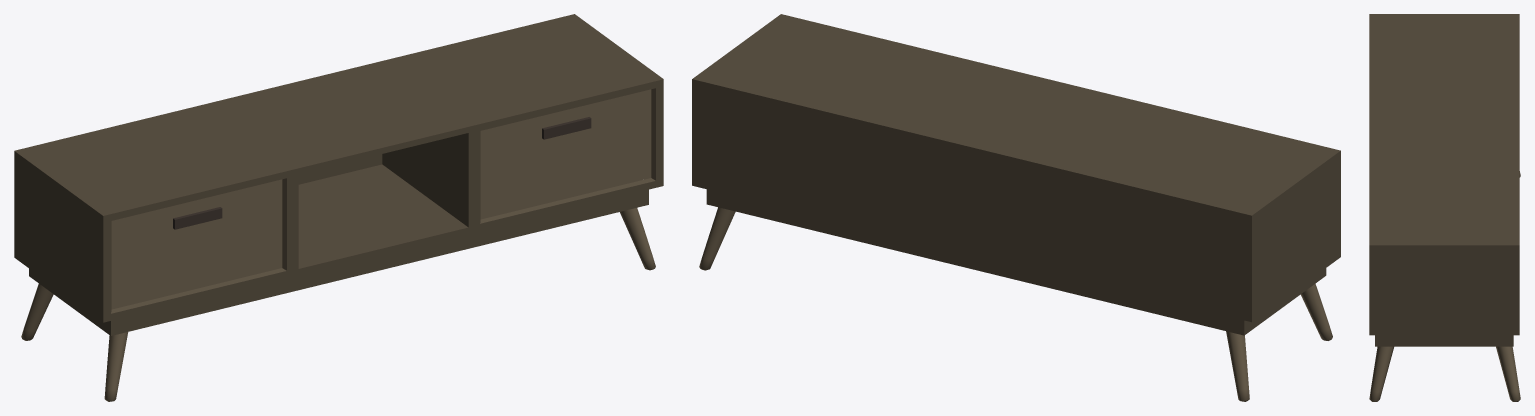
The model's file is drawer-small-2.glb.
3 views of the same model, side by side, from view 1: azimuth 30°, elevation 25°; view 2: azimuth 150°, elevation 25°; view 3: azimuth 270°, elevation 25° (orthographic). The views are drawn at different scales.
Visible parts, largest first — view 1: Drawer_2; view 2: Drawer_2; view 3: Drawer_2.
Boxes of the visible parts, box(x1,y1,x2,y2) form: Drawer_2: box(14, 14, 663, 401); Drawer_2: box(692, 14, 1340, 401); Drawer_2: box(1369, 14, 1520, 401).
Size of the model in its own units: 4.04 by 1.3 by 1.12.
